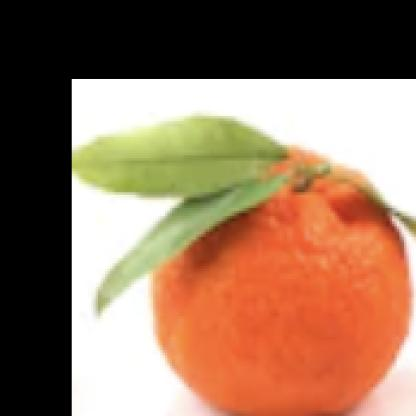fresh: (150, 117, 408, 416)
